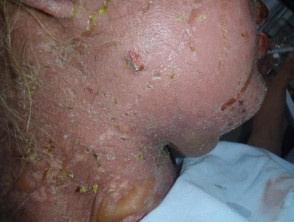SJS-TEN: (0, 5, 252, 222)
